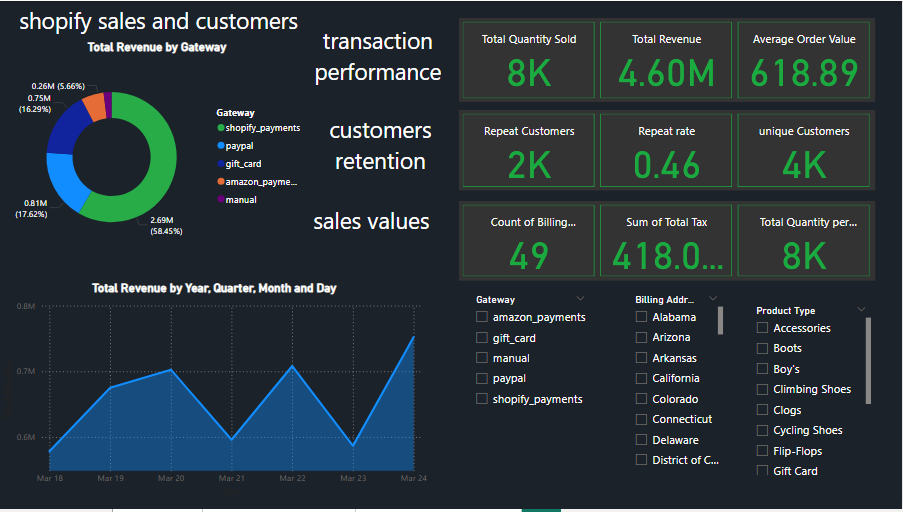

The dashboard page shown, as its layout file describes it:
{"tool":"powerbi","page":{"name":"overview","canvas":[1280,720],"ordinal":0},"visuals":[{"type":"donutChart","fields":{"Category":["shopify_sales.Gateway"],"Y":["shopify_sales.Total Revenue"]},"box":[6.7,55.4,436.7,310.8],"z":0},{"type":"cardVisual","fields":{"Data":["shopify_sales.Repeat Customers","shopify_sales.Repeat customar Rate %","shopify_sales.unique Customers"]},"box":[653.4,154.5,589.6,114.2],"z":1000},{"type":"cardVisual","fields":{"Data":["Count(shopify_sales.Billing Address Province)","Sum(shopify_sales.Total Tax)","shopify_sales.Total Quantity per product"]},"box":[653.4,283.9,589.6,112.5],"z":2000},{"type":"cardVisual","fields":{"Data":["shopify_sales.Total Quantity Sold","shopify_sales.Total Revenue","shopify_sales.Average Order Value"]},"box":[653.4,23.5,589.6,119.3],"z":3000},{"type":"textbox","box":[18.5,0,418.3,55.4],"z":4000},{"type":"textbox","box":[409.9,283.9,230.1,112.5],"z":5000},{"type":"textbox","box":[443.5,154.5,196.5,114.2],"z":6000},{"type":"textbox","box":[436.7,28.6,203.3,114.2],"z":7000},{"type":"areaChart","fields":{"Category":["shopify_sales.Invoice Date.Variation.Date Hierarchy.Year","shopify_sales.Invoice Date.Variation.Date Hierarchy.Quarter","shopify_sales.Invoice Date.Variation.Date Hierarchy.Month","shopify_sales.Invoice Date.Variation.Date Hierarchy.Day"],"Y":["shopify_sales.Total Revenue"]},"box":[0,396.4,613.1,310.8],"z":8000},{"type":"slicer","fields":{"Values":["shopify_sales.Gateway"]},"box":[665.2,409.9,179.7,176.4],"z":9000},{"type":"slicer","fields":{"Values":["shopify_sales.Billing Address Province"]},"box":[890.3,409.9,142.8,267.1],"z":10000},{"type":"slicer","fields":{"Values":["shopify_sales.Product Type"]},"box":[1061.6,425,181.4,252],"z":11000}]}

Visuals, with their boxes in screenshot pixels (x1, y1, x2, y2), scaled from the page's 1280x720 canvas onto the 903x512 screenshot:
donutChart - shopify_sales.Gateway x shopify_sales.Total Revenue: 5 39 313 260
cardVisual - shopify_sales.Repeat Customers x shopify_sales.Repeat customar Rate %: 461 110 877 191
cardVisual - Count(shopify_sales.Billing Address Province) x Sum(shopify_sales.Total Tax): 461 202 877 282
cardVisual - shopify_sales.Total Quantity Sold x shopify_sales.Total Revenue: 461 17 877 102
textbox: 13 0 308 39
textbox: 289 202 452 282
textbox: 313 110 452 191
textbox: 308 20 452 102
areaChart - shopify_sales.Invoice Date.Variation.Date Hierarchy.Year x shopify_sales.Invoice Date.Variation.Date Hierarchy.Quarter: 0 282 433 503
slicer - shopify_sales.Gateway: 469 291 596 417
slicer - shopify_sales.Billing Address Province: 628 291 729 481
slicer - shopify_sales.Product Type: 749 302 877 481
